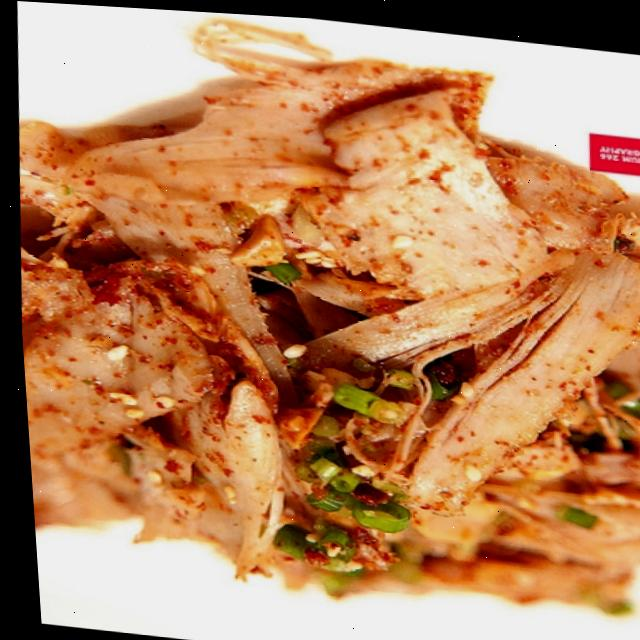鸡肉料理 含炸鸡: (3, 25, 640, 640)
